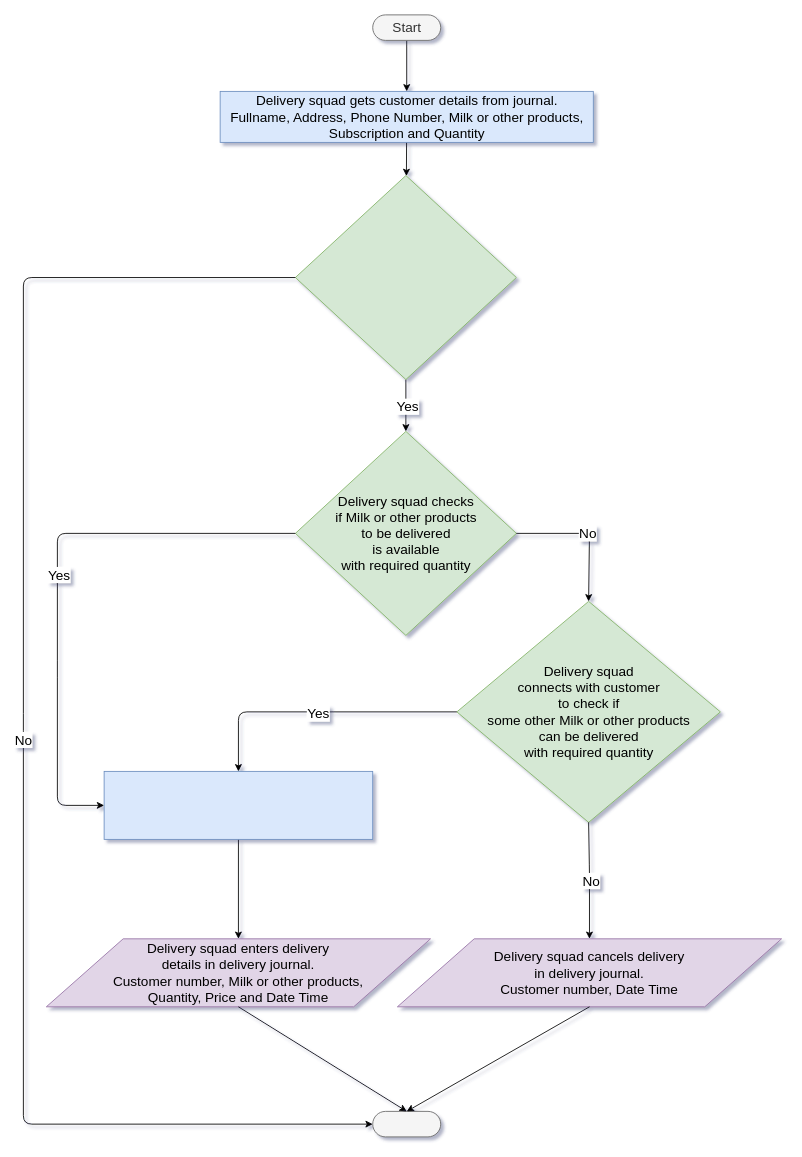
The diagram is 802 pixels wide and 1157 high, and some of its shapes have lost their labels. The shapes that lost their labels are listed below. From the top down, each one's box as (x1, y1, x2, y2) in pixels, then its label:
(295, 175, 516, 380): Delivery squad checks if customer subscription is active
(103, 771, 373, 839): Delivery squad delivers Milk or other products to customer
(372, 1111, 441, 1137): Finish
